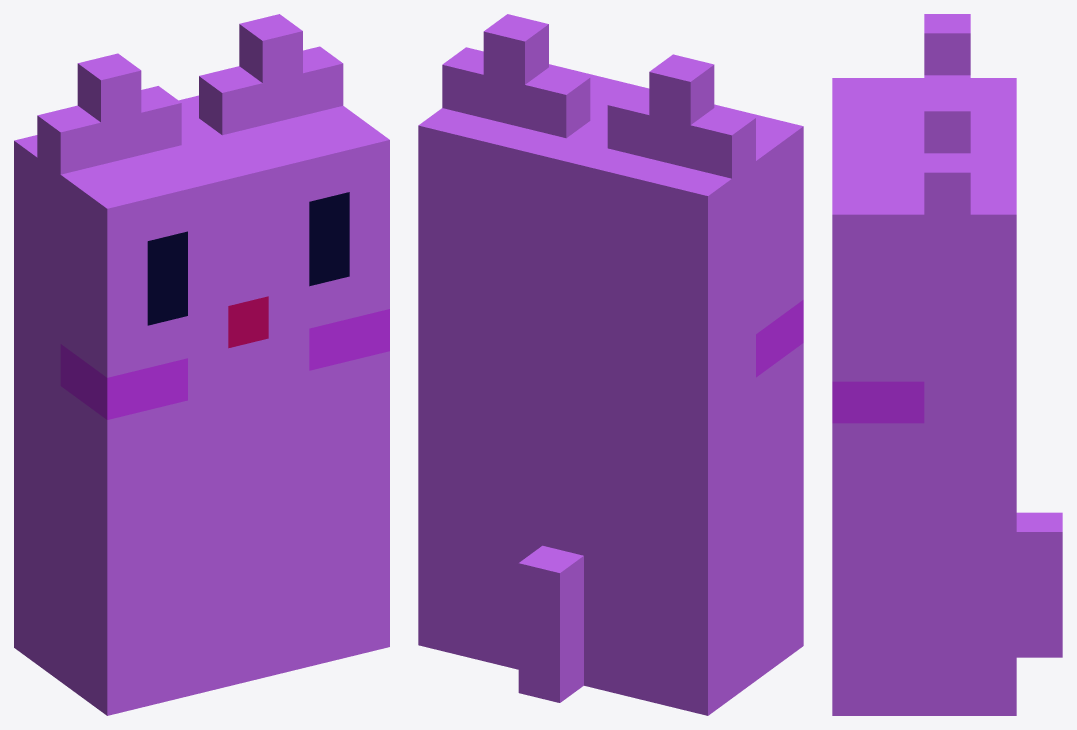
Rendered from kitty doll.obj.
3 views of the same model, side by side, from view 1: azimuth 30°, elevation 25°; view 2: azimuth 150°, elevation 25°; view 3: azimuth 270°, elevation 25° (orthographic). The views are drawn at different scales.
Size of the model in its own units: 7 by 14 by 5.
1 material, 1 textured.
